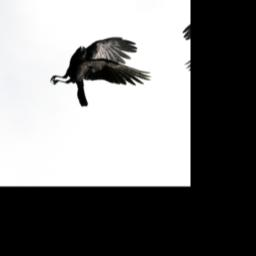Crow: (40, 29, 156, 113)
